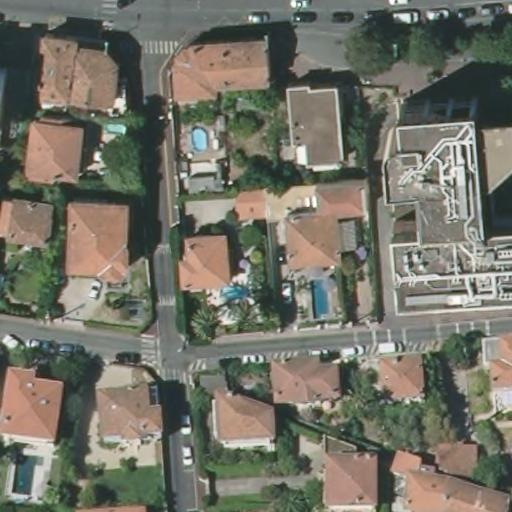pool: (306, 271, 332, 320), (188, 123, 211, 156), (214, 282, 249, 303), (105, 121, 130, 138)
